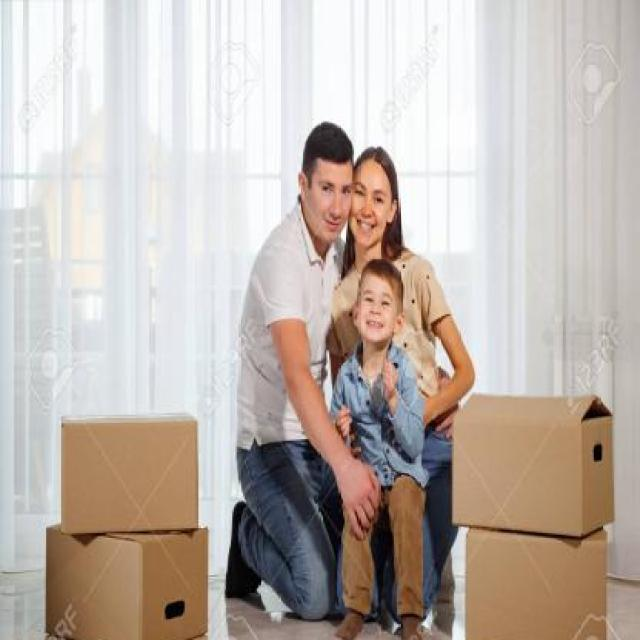box: (448, 371, 628, 546), (34, 512, 218, 640), (50, 411, 212, 544), (449, 517, 622, 640)
